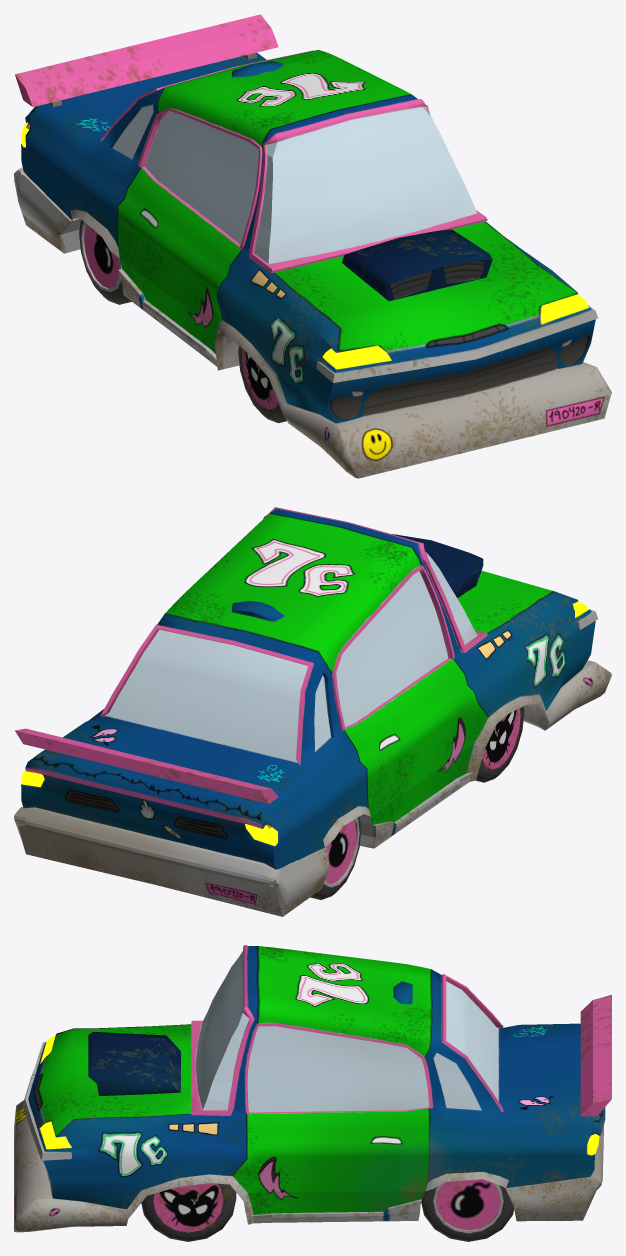
File: Coche_Oriana.fbx
The picture shows the model from 3 angles, top to bottom: view 1: azimuth 30°, elevation 25°; view 2: azimuth 150°, elevation 25°; view 3: azimuth 270°, elevation 25°; orthographic projection. The views are drawn at different scales.
Visible parts, largest first — view 1: Plane.001; view 2: Plane.001; view 3: Plane.001.
Part boxes in pixels (<box>): Plane.001: <box>14,14,611,478</box>; Plane.001: <box>14,507,611,916</box>; Plane.001: <box>14,945,611,1241</box>.
Bounding box in the file's own units: 3.43 × 2.97 × 7.31.
2 materials, 1 textured.
